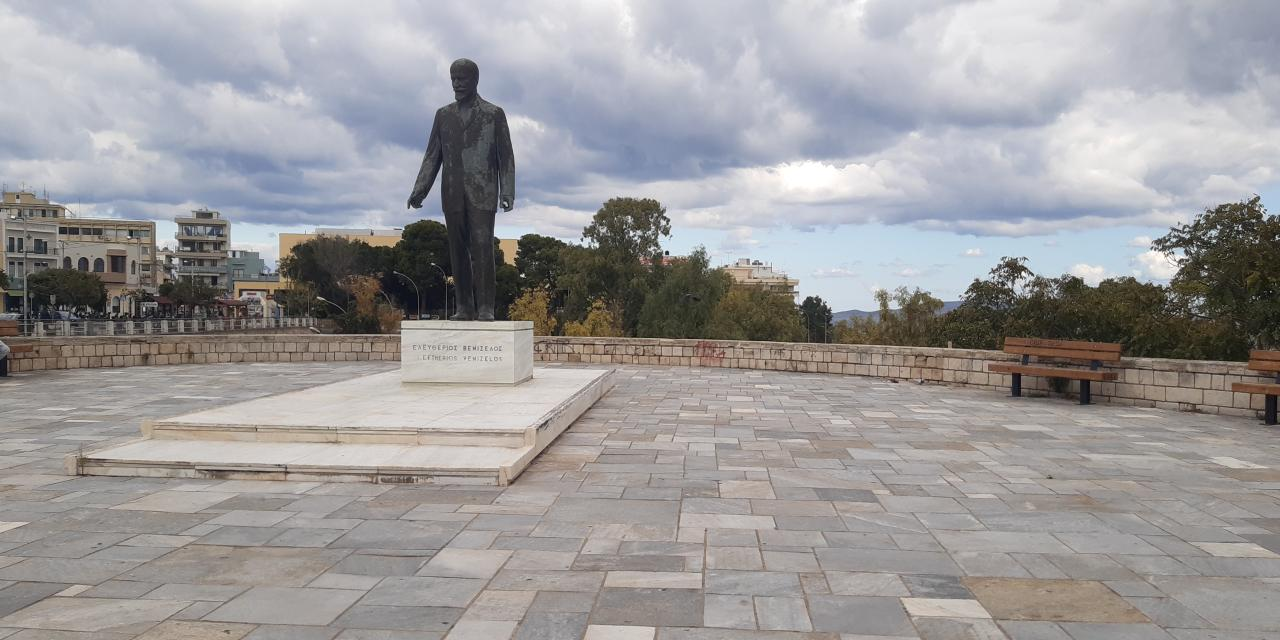Venizelos: (411, 59, 520, 323)
